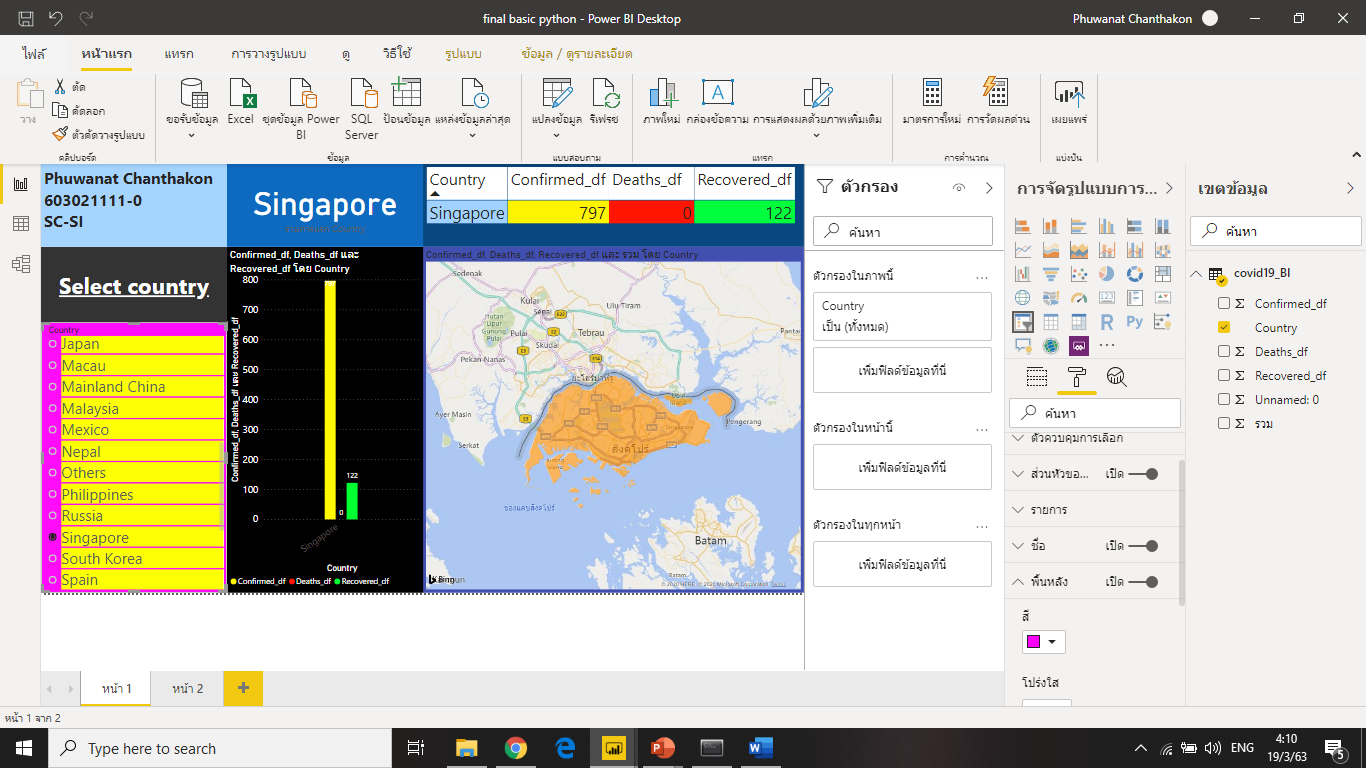

The page's visual inventory and layout, read from the dashboard file:
{"tool":"powerbi","page":{"name":"หน้า 1","canvas":[1280,720],"ordinal":0},"visuals":[{"type":"filledMap","fields":{"Category":["covid19_BI.Country"]},"box":[640.8,139.2,639.2,580.4],"z":0},{"type":"clusteredColumnChart","fields":{"Category":["covid19_BI.Country"],"Y":["Sum(covid19_BI.Confirmed_df)","Sum(covid19_BI.Deaths_df)","Sum(covid19_BI.Recovered_df)"]},"box":[312,139.2,328.8,580.4],"z":1000},{"type":"slicer","fields":{"Values":["covid19_BI.Country"]},"box":[0,265.1,312,454.6],"z":1001},{"type":"textbox","box":[0,139.2,312,125.8],"z":1002},{"type":"tableEx","fields":{"Values":["covid19_BI.Country","Sum(covid19_BI.Confirmed_df)","Sum(covid19_BI.Deaths_df)","Sum(covid19_BI.Recovered_df)"]},"box":[640.8,0,639.2,139.2],"z":1003},{"type":"card","fields":{"Values":["Min(covid19_BI.Country)"]},"box":[312,0,328.8,139.2],"z":1004},{"type":"textbox","box":[0,0,312,139.2],"z":1005}]}

Visuals, with their boxes on the page's 1280x720 design canvas (x1, y1, x2, y2). These are canvas units, not pixel positions in the 1366x768 screenshot, which may show the page scaled, cropped or inside an application window:
filledMap - covid19_BI.Country: BBox(641, 139, 1280, 720)
clusteredColumnChart - covid19_BI.Country x Sum(covid19_BI.Confirmed_df): BBox(312, 139, 641, 720)
slicer - covid19_BI.Country: BBox(0, 265, 312, 720)
textbox: BBox(0, 139, 312, 265)
tableEx - covid19_BI.Country x Sum(covid19_BI.Confirmed_df): BBox(641, 0, 1280, 139)
card - Min(covid19_BI.Country): BBox(312, 0, 641, 139)
textbox: BBox(0, 0, 312, 139)
